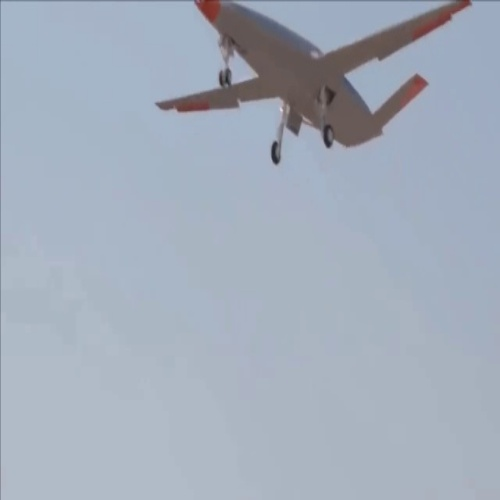uav1055: (147, 1, 478, 170)
